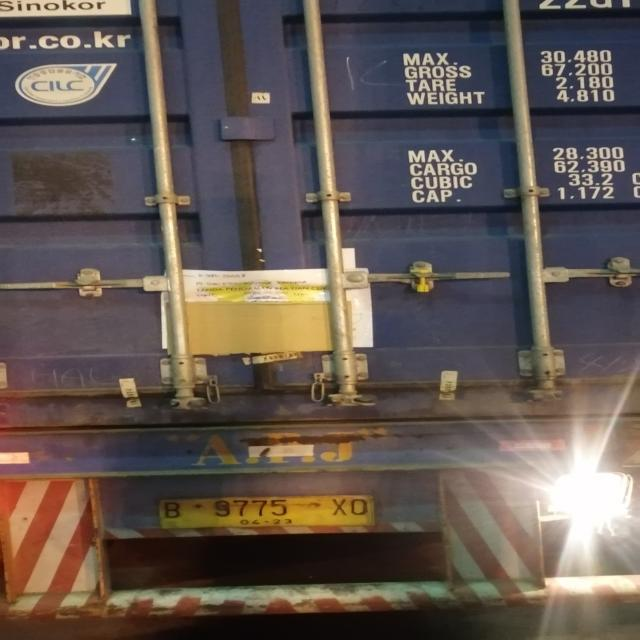seal: (409, 268, 438, 294)
